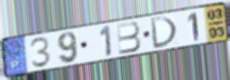1: (98, 24, 113, 58), (187, 12, 201, 42)
3: (29, 36, 52, 69)
9: (57, 30, 81, 65)
B: (115, 20, 143, 56)
D: (149, 15, 179, 50)
